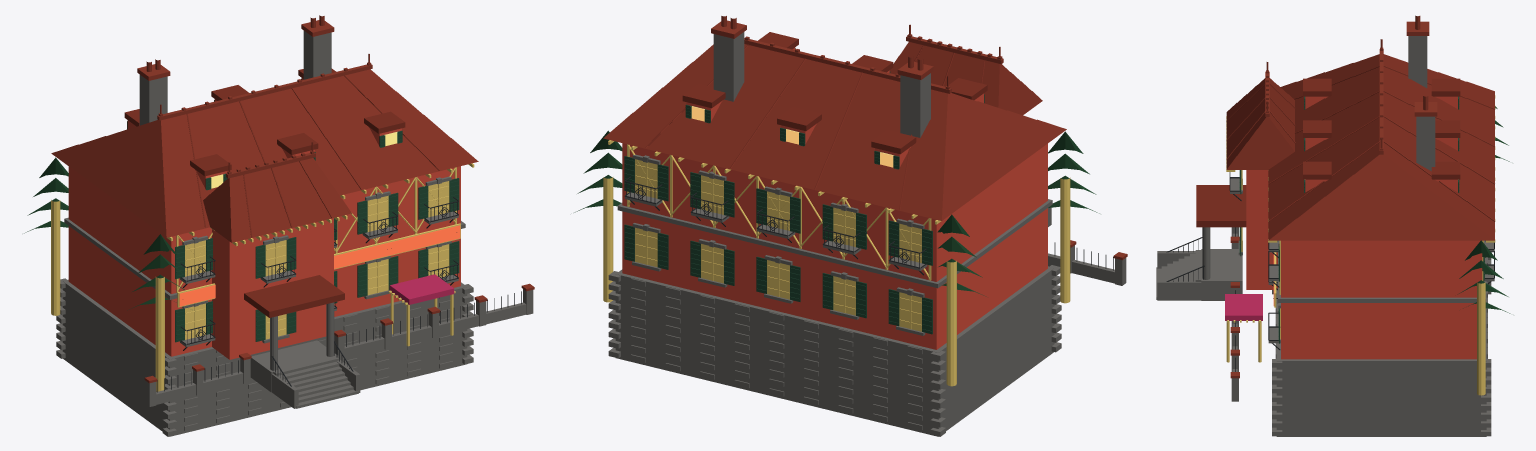
The model's file is fv_hb_03_nguyet_vong_lau_corner_shophouse.glb.
3 views of the same model, side by side, from view 1: azimuth 30°, elevation 25°; view 2: azimuth 150°, elevation 25°; view 3: azimuth 270°, elevation 25° (orthographic). The views are drawn at different scales.
Visible parts, largest first — view 1: marseille_corrugated_roof_tiles, granite_foundation_and_stairs, stucco_facade_and_dormers, colombage_timber_and_eaves, pine_green_louvered_shutters, ridge_cresting_and_chimneys, wrought_iron_balconies_3d, heritage_and_hoa_binh_signboards, pine_trees_and_garden_hedges, bougainvillea_pergola_clusters; view 2: granite_foundation_and_stairs, marseille_corrugated_roof_tiles, stucco_facade_and_dormers, colombage_timber_and_eaves, pine_green_louvered_shutters, ridge_cresting_and_chimneys, pine_trees_and_garden_hedges, wrought_iron_balconies_3d, warm_night_windows_ffb86c; view 3: marseille_corrugated_roof_tiles, granite_foundation_and_stairs, stucco_facade_and_dormers, colombage_timber_and_eaves, ridge_cresting_and_chimneys, bougainvillea_pergola_clusters, pine_trees_and_garden_hedges, wrought_iron_balconies_3d, pine_green_louvered_shutters.
Boxes of the visible parts, box(x1,y1,x2,y2) form: marseille_corrugated_roof_tiles: box(51, 68, 478, 317); granite_foundation_and_stairs: box(56, 31, 533, 436); stucco_facade_and_dormers: box(68, 78, 460, 359); colombage_timber_and_eaves: box(51, 163, 474, 391); pine_green_louvered_shutters: box(127, 78, 459, 342); ridge_cresting_and_chimneys: box(137, 15, 534, 383); wrought_iron_balconies_3d: box(157, 197, 521, 392); heritage_and_hoa_binh_signboards: box(179, 225, 460, 306); pine_trees_and_garden_hedges: box(24, 157, 185, 310); bougainvillea_pergola_clusters: box(389, 274, 454, 304); granite_foundation_and_stairs: box(608, 32, 1126, 436); marseille_corrugated_roof_tiles: box(603, 32, 1066, 220); stucco_facade_and_dormers: box(622, 47, 1047, 349); colombage_timber_and_eaves: box(603, 140, 1070, 386); pine_green_louvered_shutters: box(624, 48, 984, 334); ridge_cresting_and_chimneys: box(711, 16, 1127, 260); pine_trees_and_garden_hedges: box(574, 130, 1099, 296); wrought_iron_balconies_3d: box(624, 176, 1113, 275); warm_night_windows_ffb86c: box(691, 106, 893, 167); marseille_corrugated_roof_tiles: box(1196, 54, 1495, 240); granite_foundation_and_stairs: box(1156, 36, 1494, 436); stucco_facade_and_dormers: box(1246, 96, 1482, 359); colombage_timber_and_eaves: box(1226, 95, 1495, 395); ridge_cresting_and_chimneys: box(1230, 15, 1437, 378); bougainvillea_pergola_clusters: box(1225, 294, 1262, 320); pine_trees_and_garden_hedges: box(1457, 106, 1510, 313); wrought_iron_balconies_3d: box(1166, 172, 1494, 371); pine_green_louvered_shutters: box(1239, 96, 1484, 343).
Bounding box in the file's own units: 24.93 × 19.03 × 20.73.
